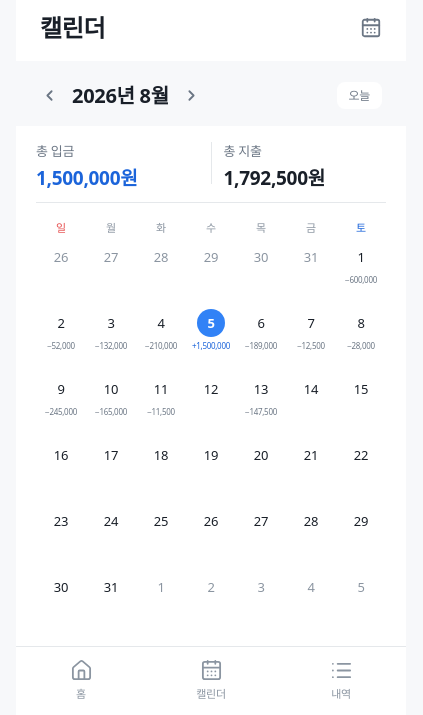
Test: CalendarPage › 오늘이 있는 달로 돌아오면 오늘을 선택한다
The width and height of the screenshot is (423, 715).
Click the button named "다음 달".
click(192, 96)  # box [170, 74, 214, 118]
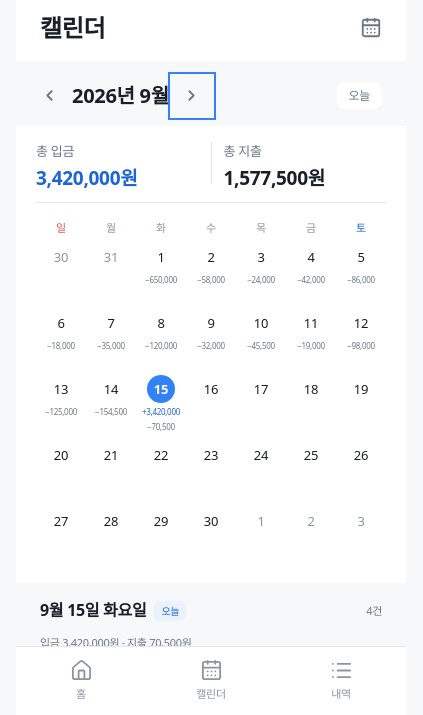
Result: the text "2026년 9월" is shown at [72, 81, 169, 110]
Result: the heading "9월 15일 화요일" is shown at [40, 599, 146, 623]
